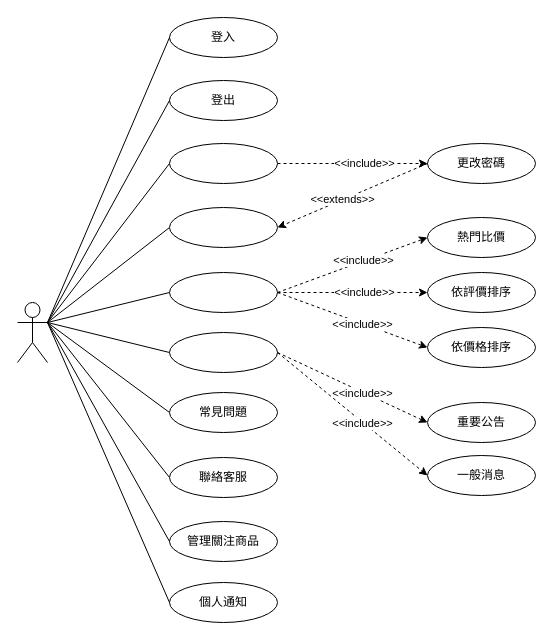
Some shapes in this 553 by 640 pixel diagram are drawn without their labels. Here are the shapes that lost their labels. From the top down, the centre of each, then its label:
At point 223,163: "忘記密碼".
At point 223,227: "管理會員資料".
At point 223,292: "商品比價".
At point 32,332: "會員".
At point 223,352: "最新消息".
